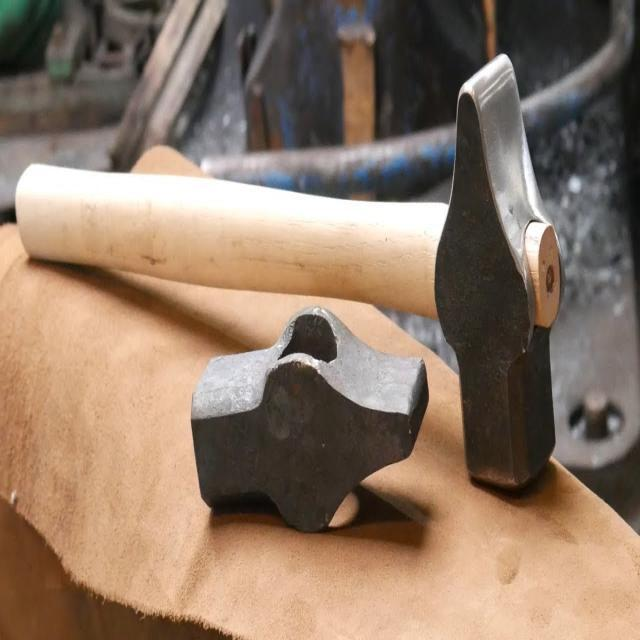hammer: (13, 42, 569, 496)
